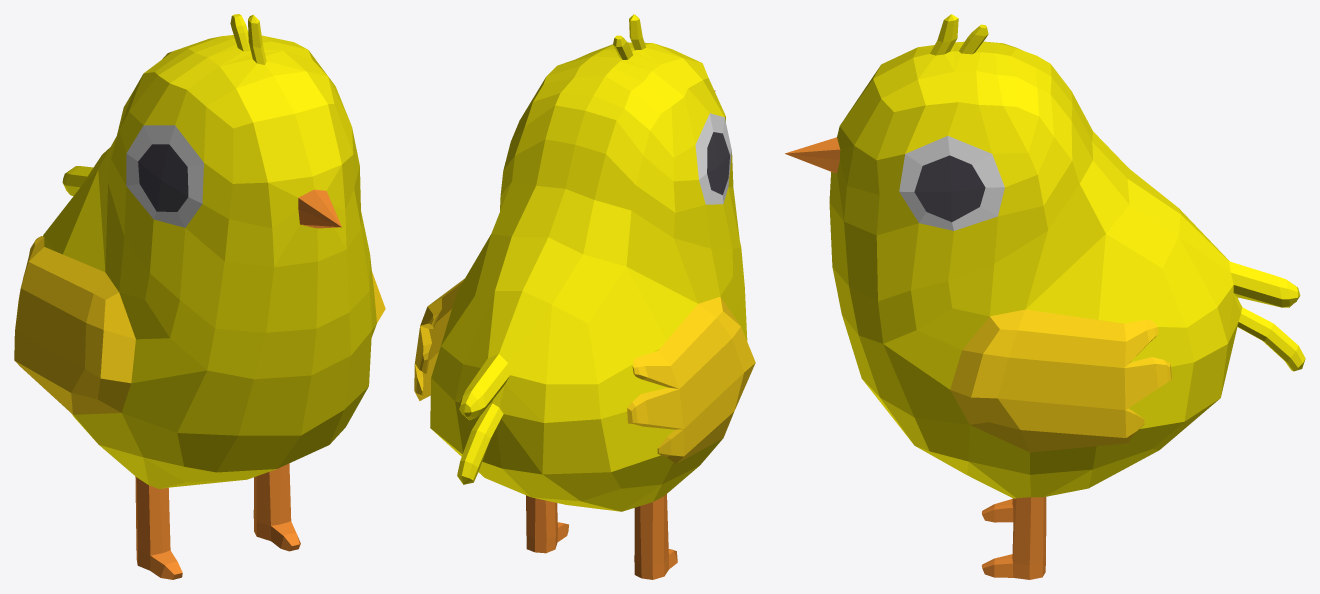
The model's file is chick2.glb.
3 views of the same model, side by side, from view 1: azimuth 30°, elevation 25°; view 2: azimuth 150°, elevation 25°; view 3: azimuth 270°, elevation 25° (orthographic). The views are drawn at different scales.
Parts seen in each view (by area): view 1: Chick; view 2: Chick; view 3: Chick.
Boxes of the visible parts, box(x1,y1,x2,y2) form: Chick: box(14, 14, 385, 579); Chick: box(414, 14, 755, 579); Chick: box(785, 14, 1305, 579).
Size of the model in its own units: 1.05 by 1.93 by 1.71.
